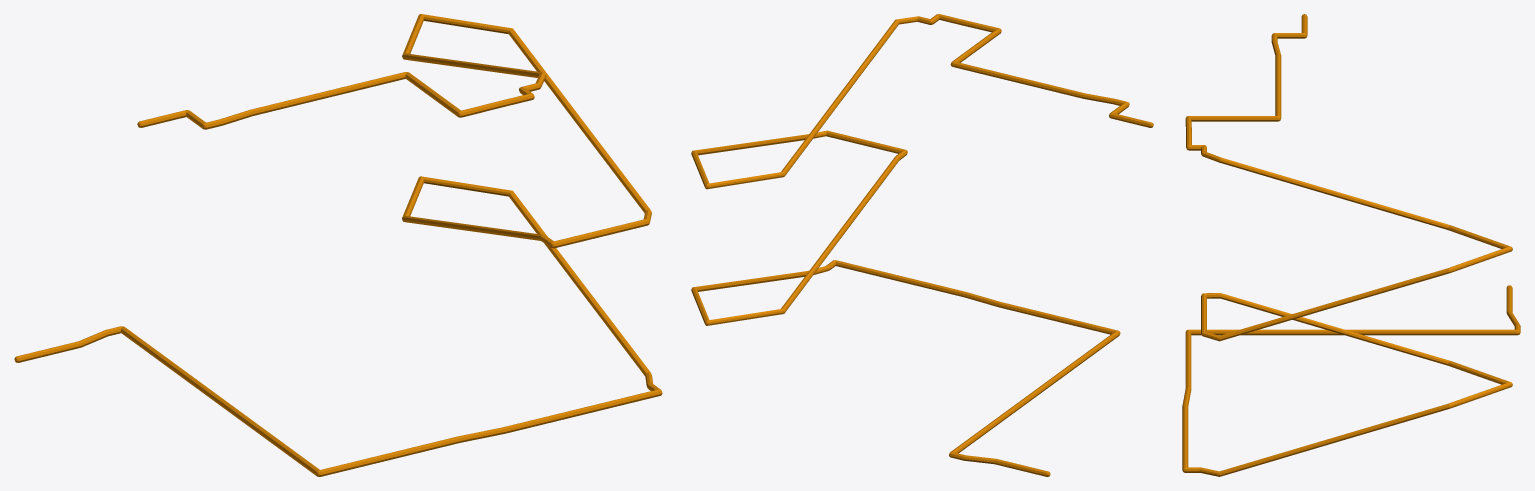
3 views of the same model, side by side, from view 1: azimuth 30°, elevation 25°; view 2: azimuth 150°, elevation 25°; view 3: azimuth 270°, elevation 25° (orthographic). The views are drawn at different scales.
Size of the model in its own units: 1492 by 1020 by 1131.
